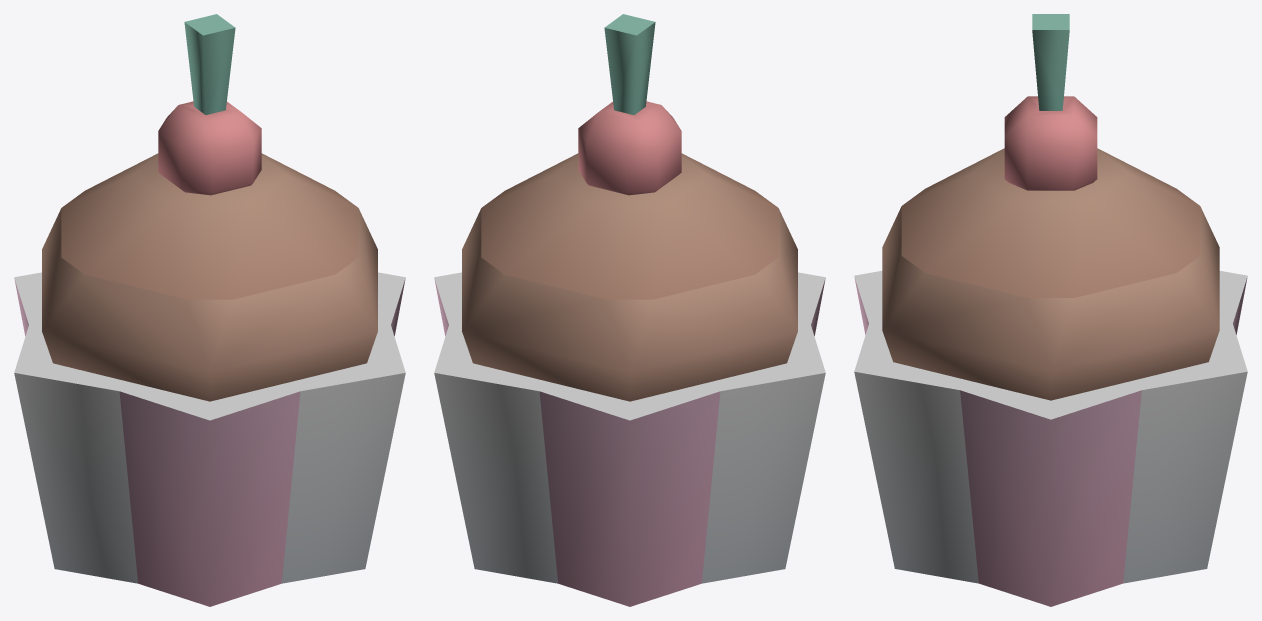
Rendered from cupcake (%secret).glb.
The picture shows the model from 3 angles, left to right: view 1: azimuth 30°, elevation 25°; view 2: azimuth 150°, elevation 25°; view 3: azimuth 270°, elevation 25°; orthographic projection.
Visible parts, largest first — view 1: cupcake (%secret); view 2: cupcake (%secret); view 3: cupcake (%secret).
Boxes of the visible parts, <box> form: cupcake (%secret): <box>14,14,405,606</box>; cupcake (%secret): <box>434,14,825,606</box>; cupcake (%secret): <box>854,14,1247,606</box>.
Size of the model in its own units: 0.1829 by 0.226 by 0.1584.
